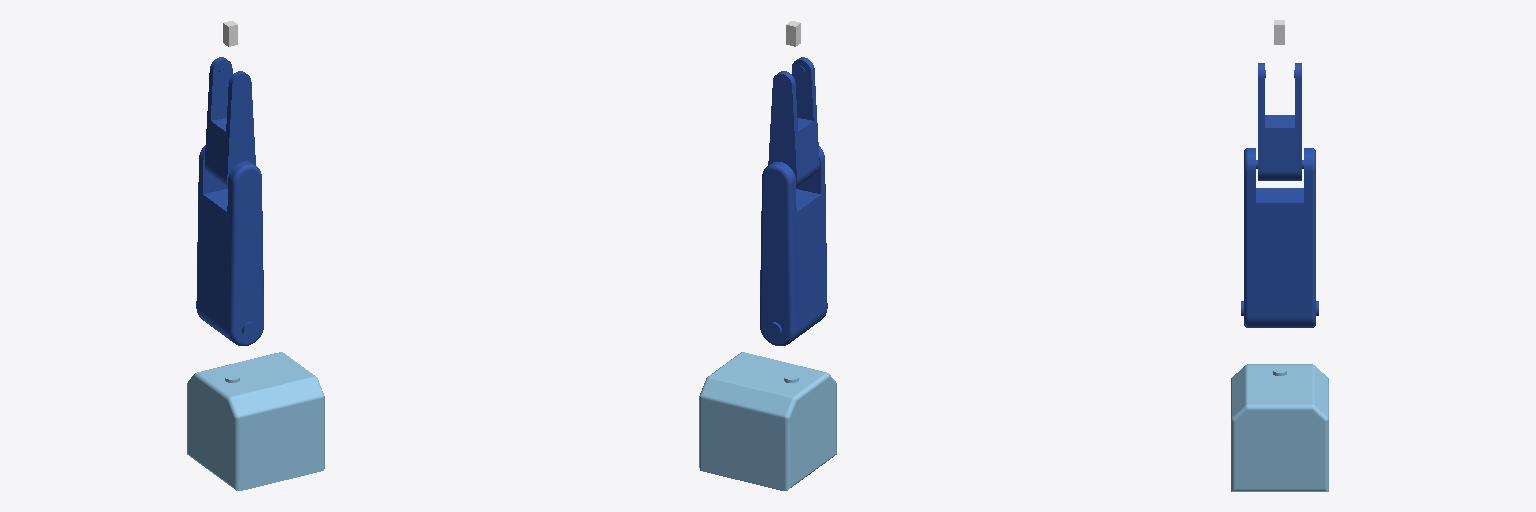
URDF robot description (lablolt5250a0_description_gripper):
<?xml version="1.0" ?>
<!-- Generated using onshape-to-robot -->
<!-- Onshape https://cad.onshape.com/documents/014a20f50428bdbec6a33164/w/f323398f0330f594139dc806/e/e7819094eb14ffb5fdca6208 -->
<robot name="lablolt5250a0_description_gripper">
  <!-- Link part_1 -->
  <link name="part_1">
    <inertial>
      <origin xyz="0 0 0" rpy="0 0 0"/>
      <mass value="1e-09"/>
      <inertia ixx="1e-09" ixy="0" ixz="0" iyy="1e-09" iyz="0" izz="1e-09"/>
    </inertial>
    <!-- Part part_1 -->
    <visual>
      <origin xyz="0 0 0" rpy="0 -0 0"/>
      <geometry>
        <mesh filename="package://labvolt5250a0_description/assets/part_1.stl"/>
      </geometry>
      <material name="part_1_material">
        <color rgba="0.615686 0.811765 0.929412 1.0"/>
      </material>
    </visual>
    <collision>
      <origin xyz="0 0 0" rpy="0 -0 0"/>
      <geometry>
        <mesh filename="package://labvolt5250a0_description/assets/part_1.stl"/>
      </geometry>
    </collision>
  </link>
  <!-- Link part_2 -->
  <link name="part_2">
    <inertial>
      <origin xyz="0 0 0" rpy="0 0 0"/>
      <mass value="1e-09"/>
      <inertia ixx="1e-09" ixy="0" ixz="0" iyy="1e-09" iyz="0" izz="1e-09"/>
    </inertial>
    <!-- Part part_2 -->
    <visual>
      <origin xyz="0.061 -1.3831e-17 0.2285" rpy="3.14159 -0 7.46023e-62"/>
      <geometry>
        <mesh filename="package://labvolt5250a0_description/assets/part_2.stl"/>
      </geometry>
      <material name="part_2_material">
        <color rgba="0.647059 0.647059 0.647059 1.0"/>
      </material>
    </visual>
    <collision>
      <origin xyz="0.061 -1.3831e-17 0.2285" rpy="3.14159 -0 7.46023e-62"/>
      <geometry>
        <mesh filename="package://labvolt5250a0_description/assets/part_2.stl"/>
      </geometry>
    </collision>
  </link>
  <!-- Link part_3 -->
  <link name="part_3">
    <inertial>
      <origin xyz="0 0 0" rpy="0 0 0"/>
      <mass value="1e-09"/>
      <inertia ixx="1e-09" ixy="0" ixz="0" iyy="1e-09" iyz="0" izz="1e-09"/>
    </inertial>
    <!-- Part part_3 -->
    <visual>
      <origin xyz="0.0665 0.381473 -0.089" rpy="1.5708 -6.75229e-32 7.88861e-31"/>
      <geometry>
        <mesh filename="package://labvolt5250a0_description/assets/part_3.stl"/>
      </geometry>
      <material name="part_3_material">
        <color rgba="0.231373 0.380392 0.705882 1.0"/>
      </material>
    </visual>
    <collision>
      <origin xyz="0.0665 0.381473 -0.089" rpy="1.5708 -6.75229e-32 7.88861e-31"/>
      <geometry>
        <mesh filename="package://labvolt5250a0_description/assets/part_3.stl"/>
      </geometry>
    </collision>
  </link>
  <!-- Link part_4 -->
  <link name="part_4">
    <inertial>
      <origin xyz="0 0 0" rpy="0 0 0"/>
      <mass value="1e-09"/>
      <inertia ixx="1e-09" ixy="0" ixz="0" iyy="1e-09" iyz="0" izz="1e-09"/>
    </inertial>
    <!-- Part part_4 -->
    <visual>
      <origin xyz="0.0665 0.747473 -0.05275" rpy="1.5708 3.96473e-31 0"/>
      <geometry>
        <mesh filename="package://labvolt5250a0_description/assets/part_4.stl"/>
      </geometry>
      <material name="part_4_material">
        <color rgba="0.231373 0.380392 0.705882 1.0"/>
      </material>
    </visual>
    <collision>
      <origin xyz="0.0665 0.747473 -0.05275" rpy="1.5708 3.96473e-31 0"/>
      <geometry>
        <mesh filename="package://labvolt5250a0_description/assets/part_4.stl"/>
      </geometry>
    </collision>
  </link>
  <!-- Link part_5 -->
  <link name="part_5">
    <inertial>
      <origin xyz="0 0 0" rpy="0 0 0"/>
      <mass value="1e-09"/>
      <inertia ixx="1e-09" ixy="0" ixz="0" iyy="1e-09" iyz="0" izz="1e-09"/>
    </inertial>
    <!-- Part part_5 -->
    <visual>
      <origin xyz="0.0665 0.977473 -0.0313886" rpy="1.5708 4.05366e-43 0"/>
      <geometry>
        <mesh filename="package://labvolt5250a0_description/assets/part_5.stl"/>
      </geometry>
      <material name="part_5_material">
        <color rgba="0.231373 0.380392 0.705882 1.0"/>
      </material>
    </visual>
    <collision>
      <origin xyz="0.0665 0.977473 -0.0313886" rpy="1.5708 4.05366e-43 0"/>
      <geometry>
        <mesh filename="package://labvolt5250a0_description/assets/part_5.stl"/>
      </geometry>
    </collision>
  </link>
  <!-- Link part_6 -->
  <link name="part_6">
    <inertial>
      <origin xyz="0 0 0" rpy="0 0 0"/>
      <mass value="1e-09"/>
      <inertia ixx="1e-09" ixy="0" ixz="0" iyy="1e-09" iyz="0" izz="1e-09"/>
    </inertial>
    <!-- Part part_6 -->
    <visual>
      <origin xyz="0.0665 -0.00075 1.01889" rpy="3.14159 -0 5.95794e-43"/>
      <geometry>
        <mesh filename="package://labvolt5250a0_description/assets/part_6.stl"/>
      </geometry>
      <material name="part_6_material">
        <color rgba="0.231373 0.380392 0.705882 1.0"/>
      </material>
    </visual>
    <collision>
      <origin xyz="0.0665 -0.00075 1.01889" rpy="3.14159 -0 5.95794e-43"/>
      <geometry>
        <mesh filename="package://labvolt5250a0_description/assets/part_6.stl"/>
      </geometry>
    </collision>
  </link>
  <!-- Link part_7 -->
  <link name="part_7">
    <inertial>
      <origin xyz="0 0 0" rpy="0 0 0"/>
      <mass value="1e-09"/>
      <inertia ixx="1e-09" ixy="0" ixz="0" iyy="1e-09" iyz="0" izz="1e-09"/>
    </inertial>
    <!-- Part part_7 -->
    <visual>
      <origin xyz="0.0665 1.05689 0.00075" rpy="1.5708 5.93537e-43 0"/>
      <geometry>
        <mesh filename="package://labvolt5250a0_description/assets/part_7.stl"/>
      </geometry>
      <material name="part_7_material">
        <color rgba="0.917647 0.917647 0.917647 1.0"/>
      </material>
    </visual>
    <collision>
      <origin xyz="0.0665 1.05689 0.00075" rpy="1.5708 5.93537e-43 0"/>
      <geometry>
        <mesh filename="package://labvolt5250a0_description/assets/part_7.stl"/>
      </geometry>
    </collision>
  </link>
  <!-- Joint from part_6 to part_7 -->
  <joint name="Slider 1" type="prismatic">
    <origin xyz="-1.38778e-17 1.0842e-19 -0.038" rpy="1.5708 1.57772e-30 3.9443e-31"/>
    <parent link="part_6"/>
    <child link="part_7"/>
    <axis xyz="0 0 1"/>
    <limit effort="10" velocity="10" lower="-0.04" upper="0"/>
  </joint>
  <!-- Link part_8 -->
  <link name="part_8">
    <inertial>
      <origin xyz="0 0 0" rpy="0 0 0"/>
      <mass value="1e-09"/>
      <inertia ixx="1e-09" ixy="0" ixz="0" iyy="1e-09" iyz="0" izz="1e-09"/>
    </inertial>
    <!-- Part part_8 -->
    <visual>
      <origin xyz="0.0665 -1.05689 -0.00075" rpy="-1.5708 7.1322e-33 0"/>
      <geometry>
        <mesh filename="package://labvolt5250a0_description/assets/part_8.stl"/>
      </geometry>
      <material name="part_8_material">
        <color rgba="0.917647 0.917647 0.917647 1.0"/>
      </material>
    </visual>
    <collision>
      <origin xyz="0.0665 -1.05689 -0.00075" rpy="-1.5708 7.1322e-33 0"/>
      <geometry>
        <mesh filename="package://labvolt5250a0_description/assets/part_8.stl"/>
      </geometry>
    </collision>
  </link>
  <!-- Joint from part_6 to part_8 -->
  <joint name="Slider 2" type="prismatic">
    <origin xyz="1.17961e-15 -1.74611e-15 -0.038" rpy="-1.5708 7.49401e-16 1.51823e-15"/>
    <parent link="part_6"/>
    <child link="part_8"/>
    <axis xyz="0 0 1"/>
    <limit effort="10" velocity="10" lower="-0.04" upper="-1.74622e-15"/>
    <mimic joint="Slider 1" multiplier="1.0"/>
  </joint>
  <!-- Joint from part_5 to part_6 -->
  <joint name="Revolute 5" type="revolute">
    <origin xyz="-1.66533e-16 -0.041413 -0.0321386" rpy="-1.5708 -1.84933e-15 1.43757e-15"/>
    <parent link="part_5"/>
    <child link="part_6"/>
    <axis xyz="0 0 1"/>
    <limit effort="10" velocity="10" lower="-1.5708" upper="1.5708"/>
  </joint>
  <!-- Joint from part_4 to part_5 -->
  <joint name="Revolute 4" type="revolute">
    <origin xyz="-1.47105e-15 -0.23 -0.0213614" rpy="-6.70734e-15 1.06007e-14 -1.80125e-14"/>
    <parent link="part_4"/>
    <child link="part_5"/>
    <axis xyz="0 0 1"/>
    <limit effort="10" velocity="10" lower="-1.5708" upper="1.5708"/>
  </joint>
  <!-- Joint from part_3 to part_4 -->
  <joint name="Revolute 3" type="revolute">
    <origin xyz="0 -0.366 -0.03625" rpy="6.14954e-15 -2.64151e-15 4.03745e-16"/>
    <parent link="part_3"/>
    <child link="part_4"/>
    <axis xyz="0 0 1"/>
    <limit effort="10" velocity="10" lower="-2.0944" upper="2.0944"/>
  </joint>
  <!-- Joint from part_2 to part_3 -->
  <joint name="Revolute 2" type="revolute">
    <origin xyz="-0.0055 -0.089 -0.152973" rpy="1.5708 -5.53595e-15 -8.05484e-15"/>
    <parent link="part_2"/>
    <child link="part_3"/>
    <axis xyz="0 0 1"/>
    <limit effort="10" velocity="10" lower="-2.0944" upper="0.349066"/>
  </joint>
  <!-- Joint from part_1 to part_2 -->
  <joint name="Revolute 1" type="revolute">
    <origin xyz="-0.061 7.70547e-17 0.2285" rpy="3.14159 8.39705e-32 -1.249e-16"/>
    <parent link="part_1"/>
    <child link="part_2"/>
    <axis xyz="0 0 1"/>
    <limit effort="10" velocity="10" lower="0" upper="3.14159"/>
  </joint>
</robot>

--- Facts derived from the render (not from the file) ---
Views: 3 orthographic renders of the robot side by side, from view 1: azimuth 30°, elevation 25°; view 2: azimuth 150°, elevation 25°; view 3: azimuth 270°, elevation 25°.
Model lablolt5250a0_description_gripper with 8 links and 7 joints (5 revolute, 2 prismatic), rooted at part_1, posed all joints at 0 but 1 set to mid-range because 0 is outside their limits (, +1 more).
Visible links, largest first — view 1: part_1, part_3, part_5; view 2: part_1, part_3, part_5; view 3: part_1, part_3, part_5.
Link boxes in pixels (x1=…): part_1: x1=187, y1=352, x2=324, y2=490; part_3: x1=196, y1=145, x2=263, y2=345; part_5: x1=205, y1=57, x2=255, y2=186; part_1: x1=699, y1=352, x2=836, y2=490; part_3: x1=760, y1=146, x2=827, y2=345; part_5: x1=768, y1=57, x2=819, y2=186; part_1: x1=1231, y1=364, x2=1328, y2=491; part_3: x1=1241, y1=148, x2=1318, y2=327; part_5: x1=1257, y1=63, x2=1302, y2=180.
Size in the robot's own frame: 0.235 by 0.225 by 1.11 metres.
5 mesh visuals loaded from 8 distinct referenced files (5 binary STL); not drawn: 3 (reference not matched to a file when rendering).
